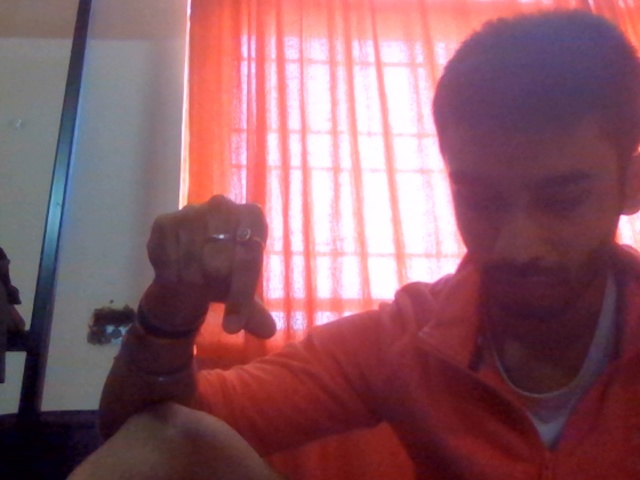Q: (104, 176, 344, 407)
